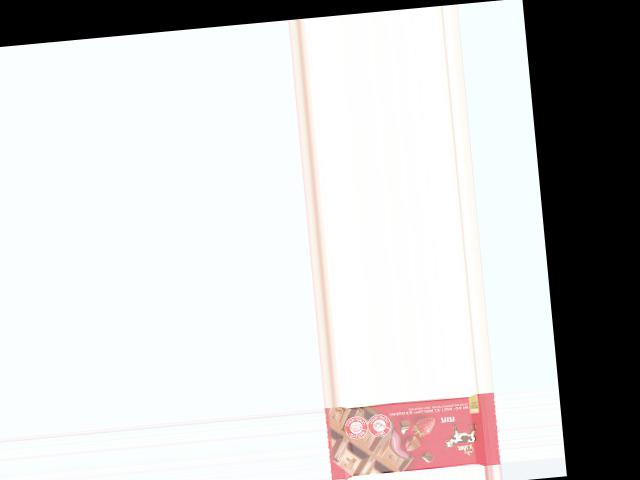chocolate: (324, 392, 501, 479)
